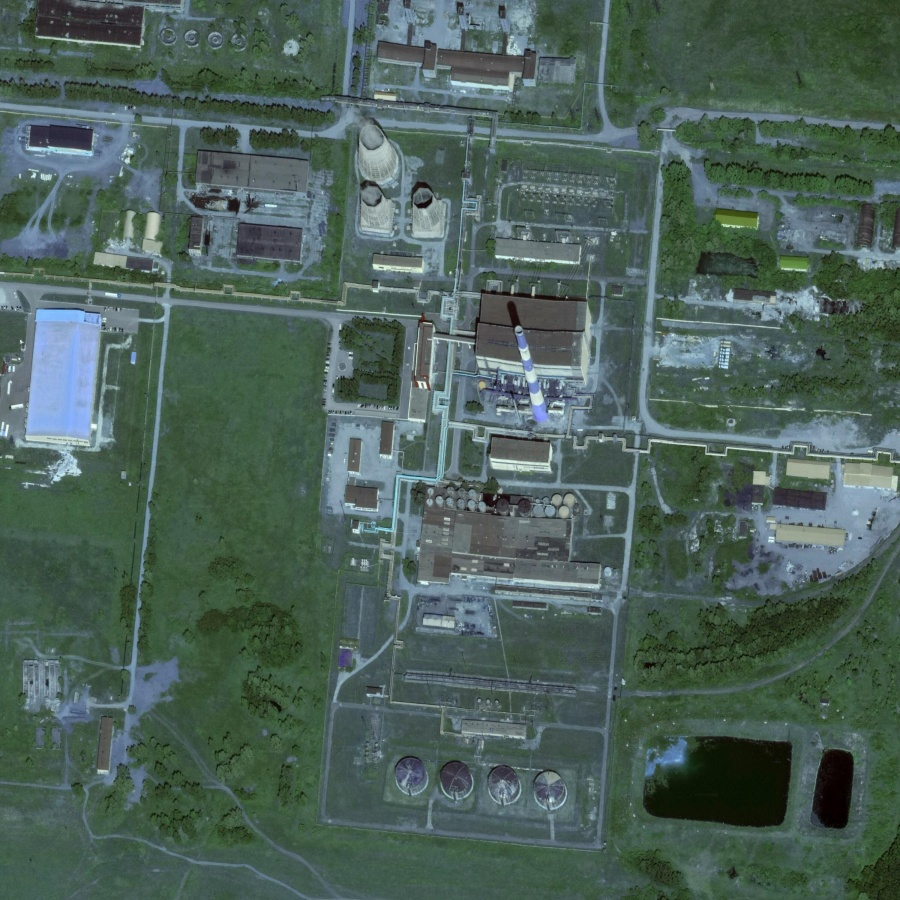PowerPlant: (329, 114, 622, 473), (388, 705, 598, 871), (633, 722, 867, 849)
